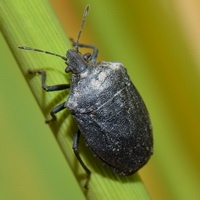insect: (18, 6, 152, 175)
